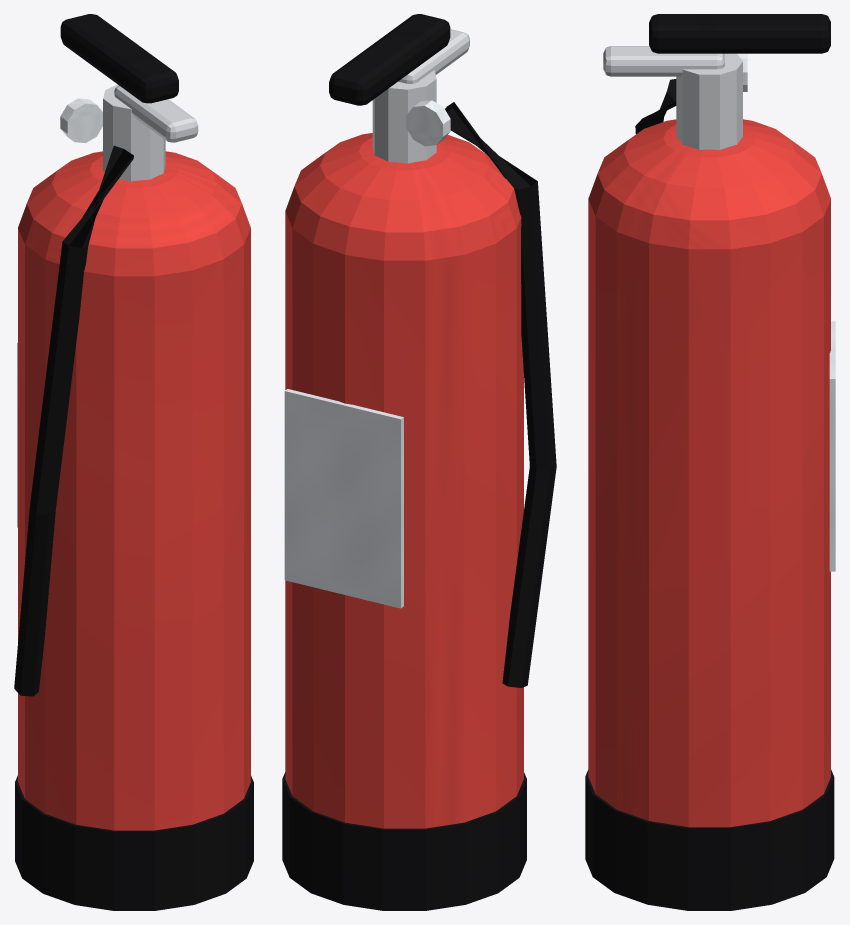
File: SW_Extinguisher.glb
The picture shows the model from 3 angles, left to right: view 1: azimuth 30°, elevation 25°; view 2: azimuth 150°, elevation 25°; view 3: azimuth 270°, elevation 25°; orthographic projection. The views are drawn at different scales.
Parts seen in each view (by area): view 1: Extinguisher; view 2: Extinguisher; view 3: Extinguisher.
Part boxes in pixels (x1,y1,x2,y2): Extinguisher: (14, 14, 253, 910); Extinguisher: (282, 14, 556, 910); Extinguisher: (585, 14, 835, 910).
Size of the model in its own units: 0.1785 by 0.61 by 0.165.
2 materials, 1 textured.
